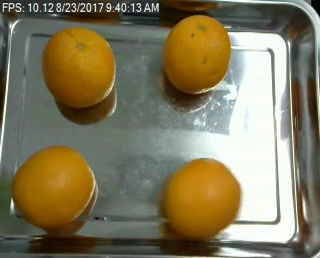Orange: (10, 144, 95, 228), (162, 158, 242, 239), (42, 28, 116, 108), (162, 13, 232, 94)
